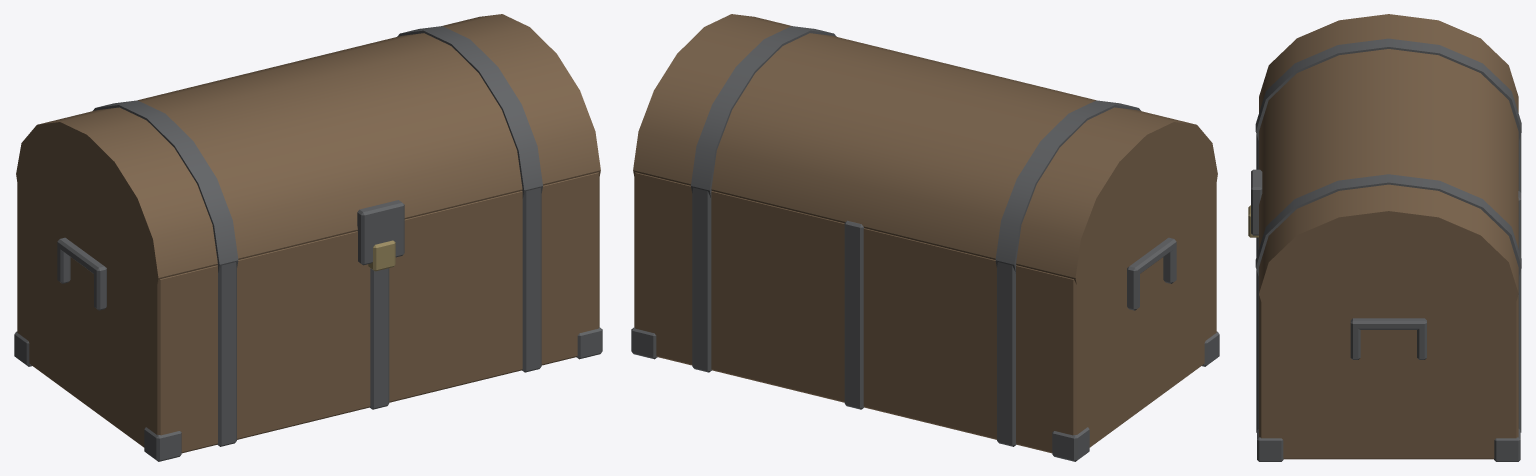
The model's file is Loot_LargePiece_Chest.fbx.
3 renders of one model, left to right at view 1: azimuth 30°, elevation 25°; view 2: azimuth 150°, elevation 25°; view 3: azimuth 270°, elevation 25°, orthographic. The views are drawn at different scales.
Visible parts, largest first — view 1: Loot_LargePiece_Chest; view 2: Loot_LargePiece_Chest; view 3: Loot_LargePiece_Chest.
Part boxes in pixels (bbox=[...]): Loot_LargePiece_Chest: bbox=[14, 14, 602, 461]; Loot_LargePiece_Chest: bbox=[631, 14, 1219, 461]; Loot_LargePiece_Chest: bbox=[1248, 14, 1521, 461].
Bounding box in the file's own units: 128 × 73.06 × 71.6.
